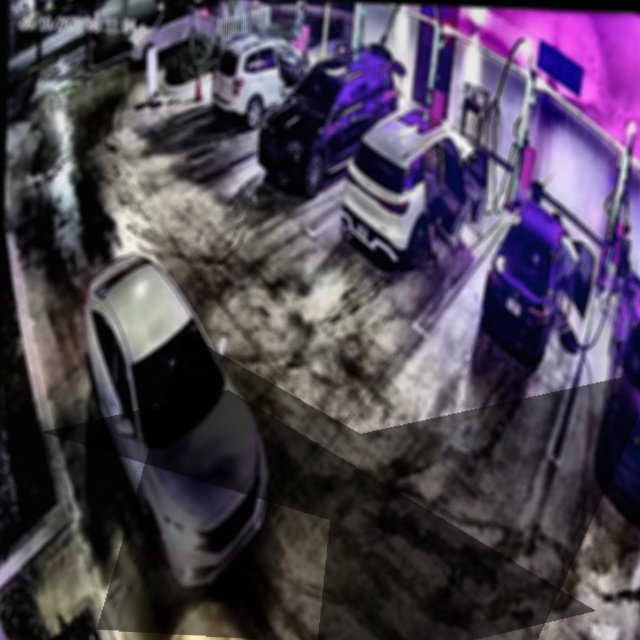Car: (74, 249, 278, 595), (345, 105, 490, 265), (262, 45, 399, 197), (480, 202, 593, 364)
